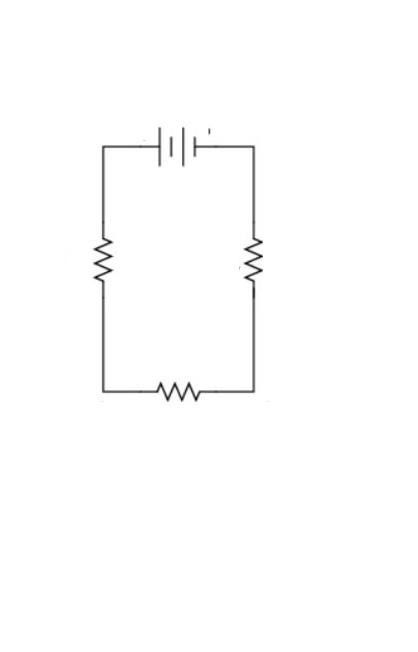resistor: (132, 363, 226, 420), (67, 229, 148, 293), (231, 215, 273, 301)
